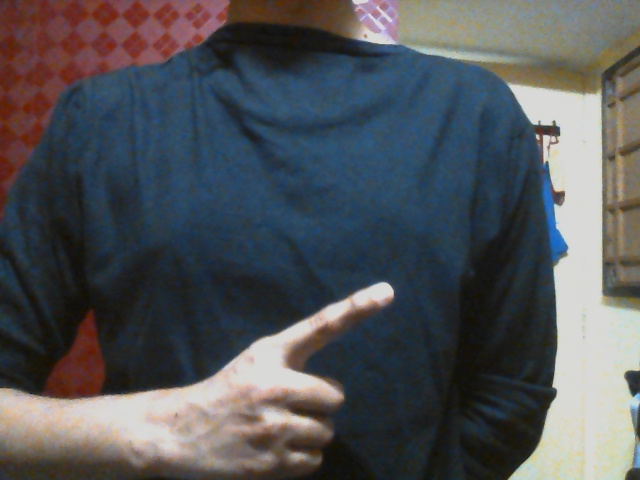I: (193, 278, 398, 480)
